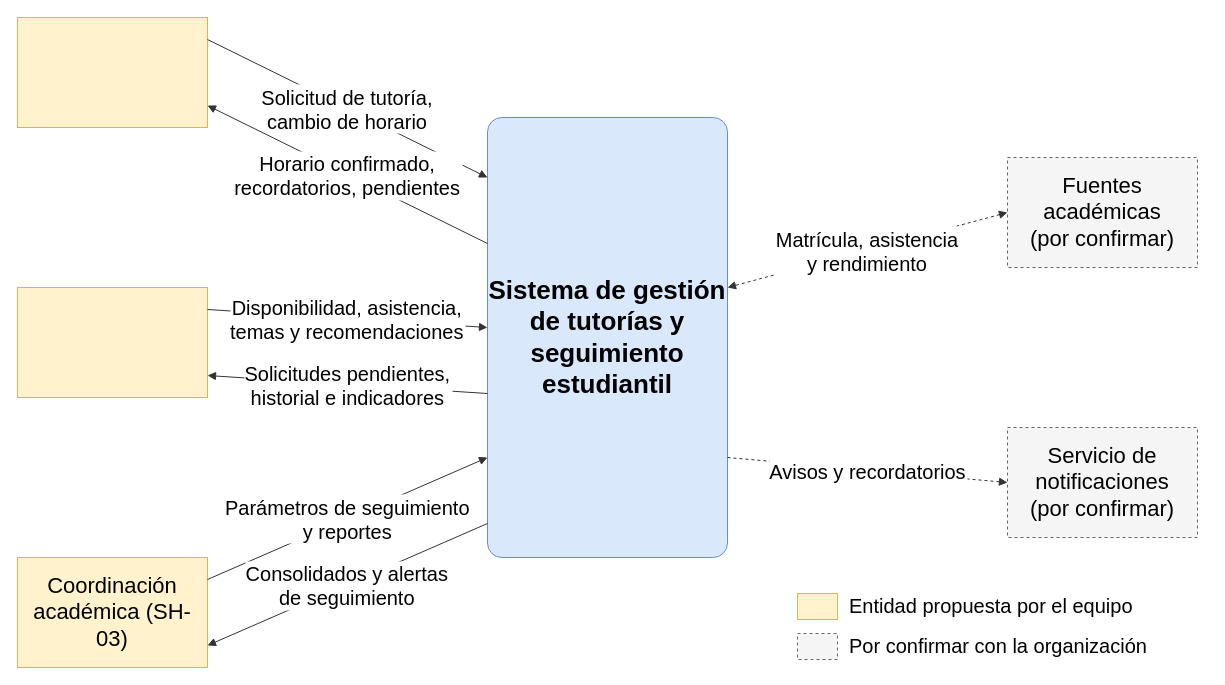
Some shapes in this 1225 by 685 pixel diagram are drawn without their labels. Here are the shapes that lost their labels. From the top down, the centre of each, then its label:
(112,72): Estudiante (SH-01)
(112,342): Docente tutor (SH-02)
